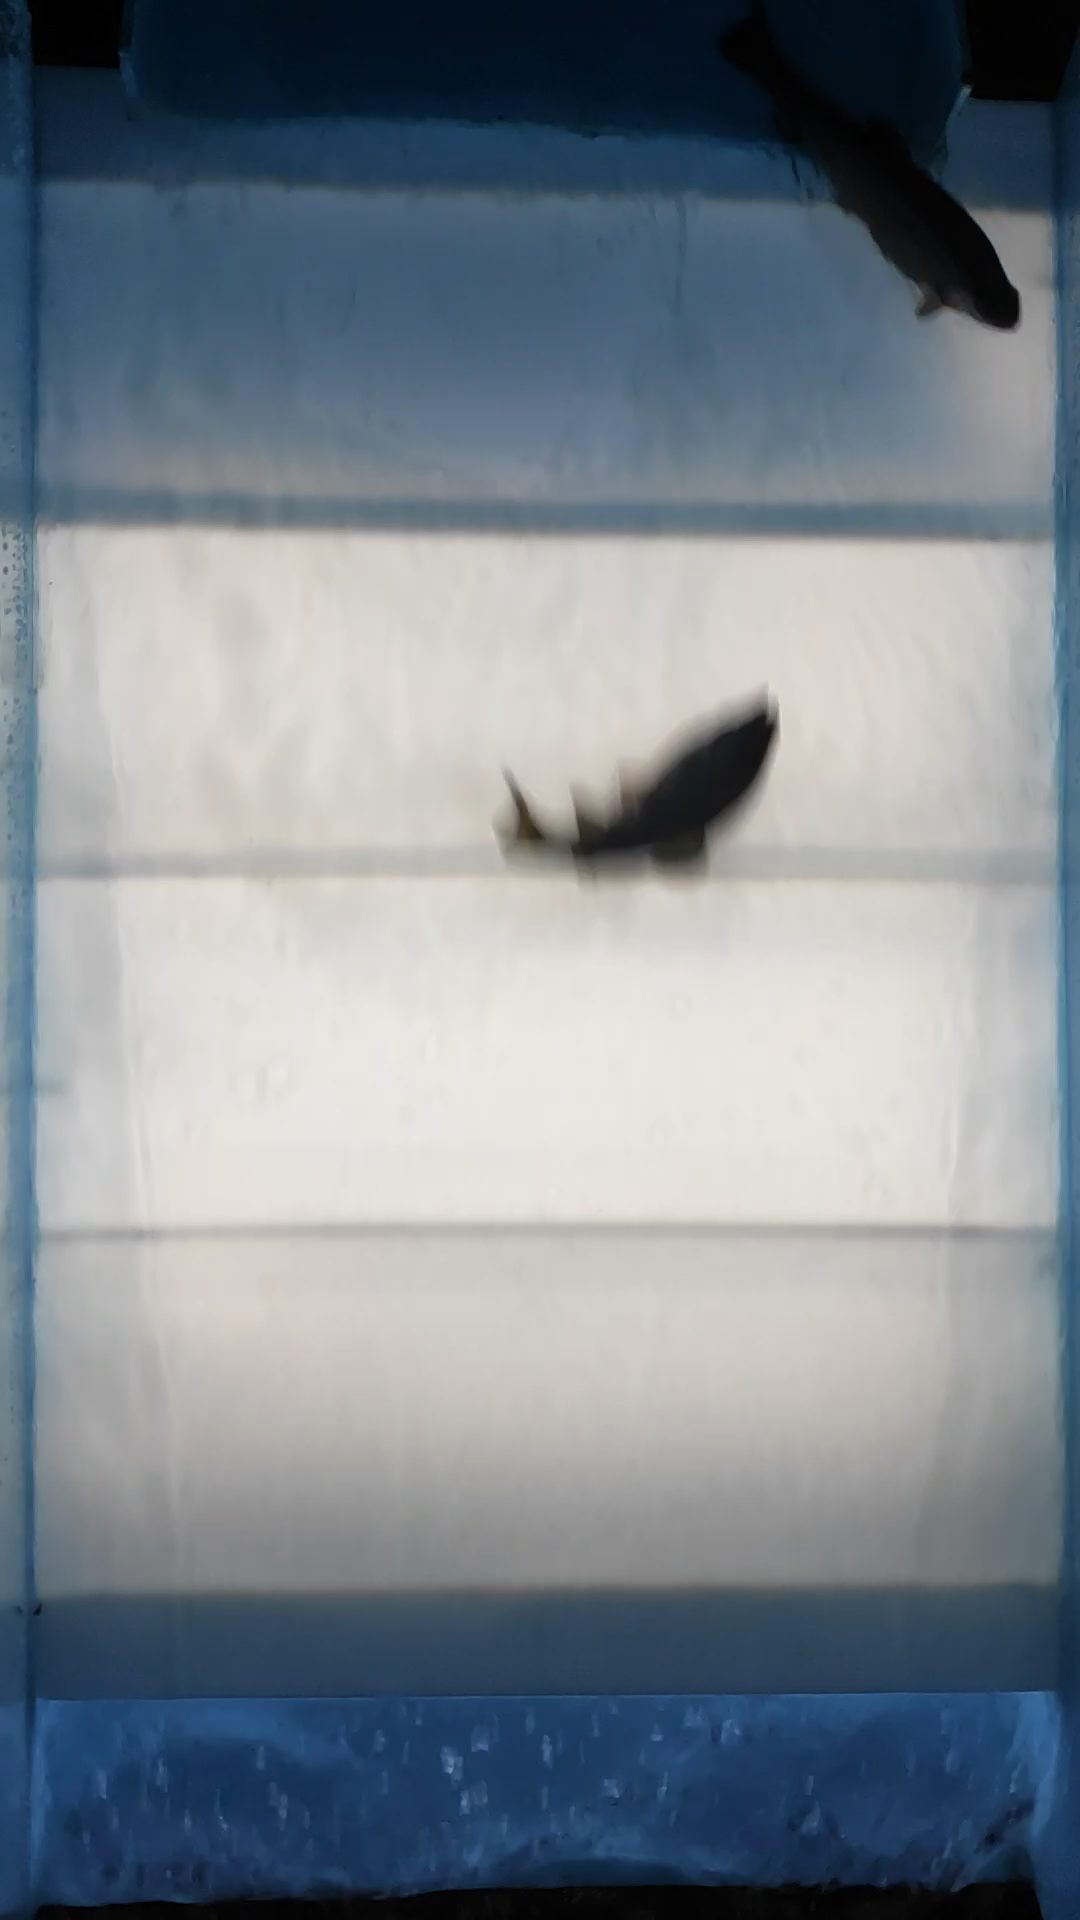fish: (711, 1, 1022, 330), (492, 695, 786, 877)
